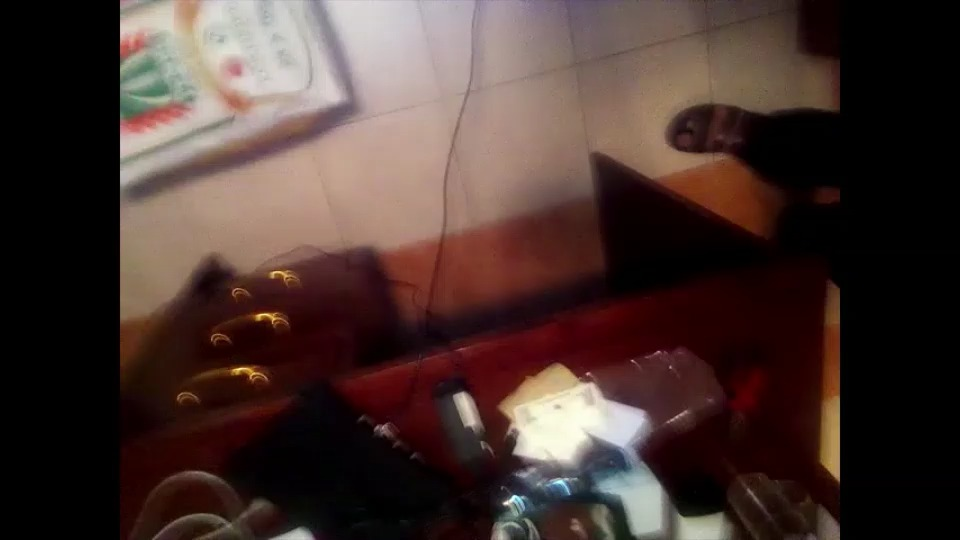maize_flour_green_label: (120, 2, 356, 191)
